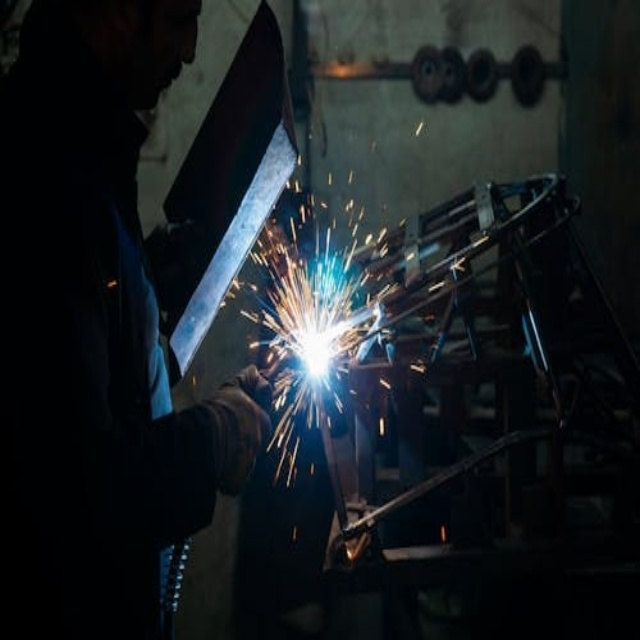Guantes: (194, 367, 277, 496)
